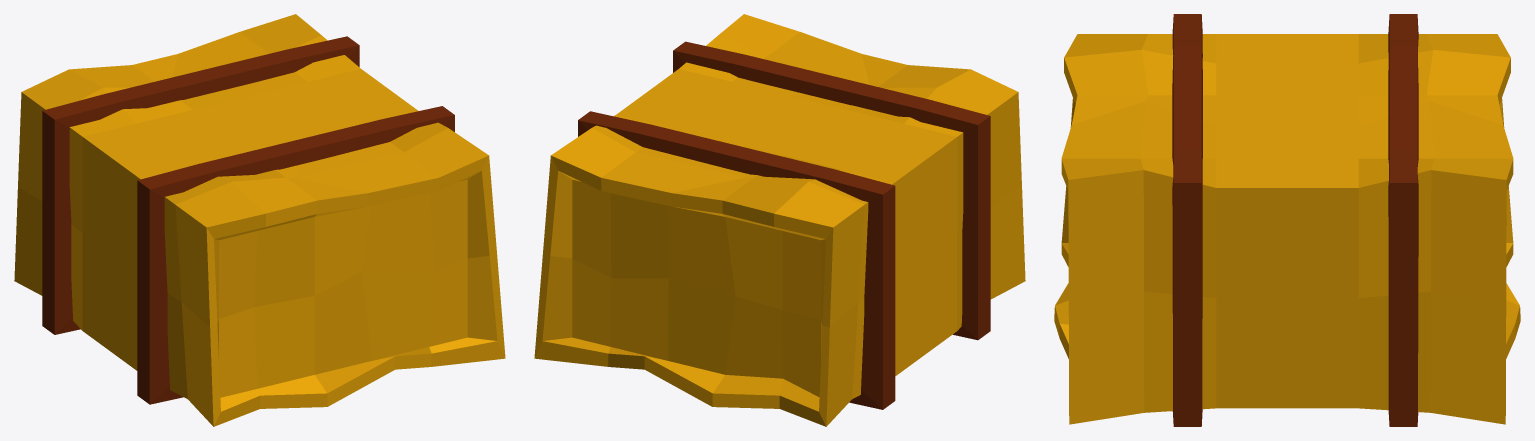
Rendered from square_hay_3.FBX.
3 renders of one model, left to right at view 1: azimuth 30°, elevation 25°; view 2: azimuth 150°, elevation 25°; view 3: azimuth 270°, elevation 25°, orthographic. The views are drawn at different scales.
Parts seen in each view (by area): view 1: square_hay_3; view 2: square_hay_3; view 3: square_hay_3.
Part boxes in pixels (x1,y1,x2,y2): square_hay_3: [14, 14, 505, 426]; square_hay_3: [534, 14, 1025, 426]; square_hay_3: [1054, 14, 1520, 426].
Size of the model in its own units: 0.6331 by 0.4315 by 0.7286.
1 material, 1 textured.
